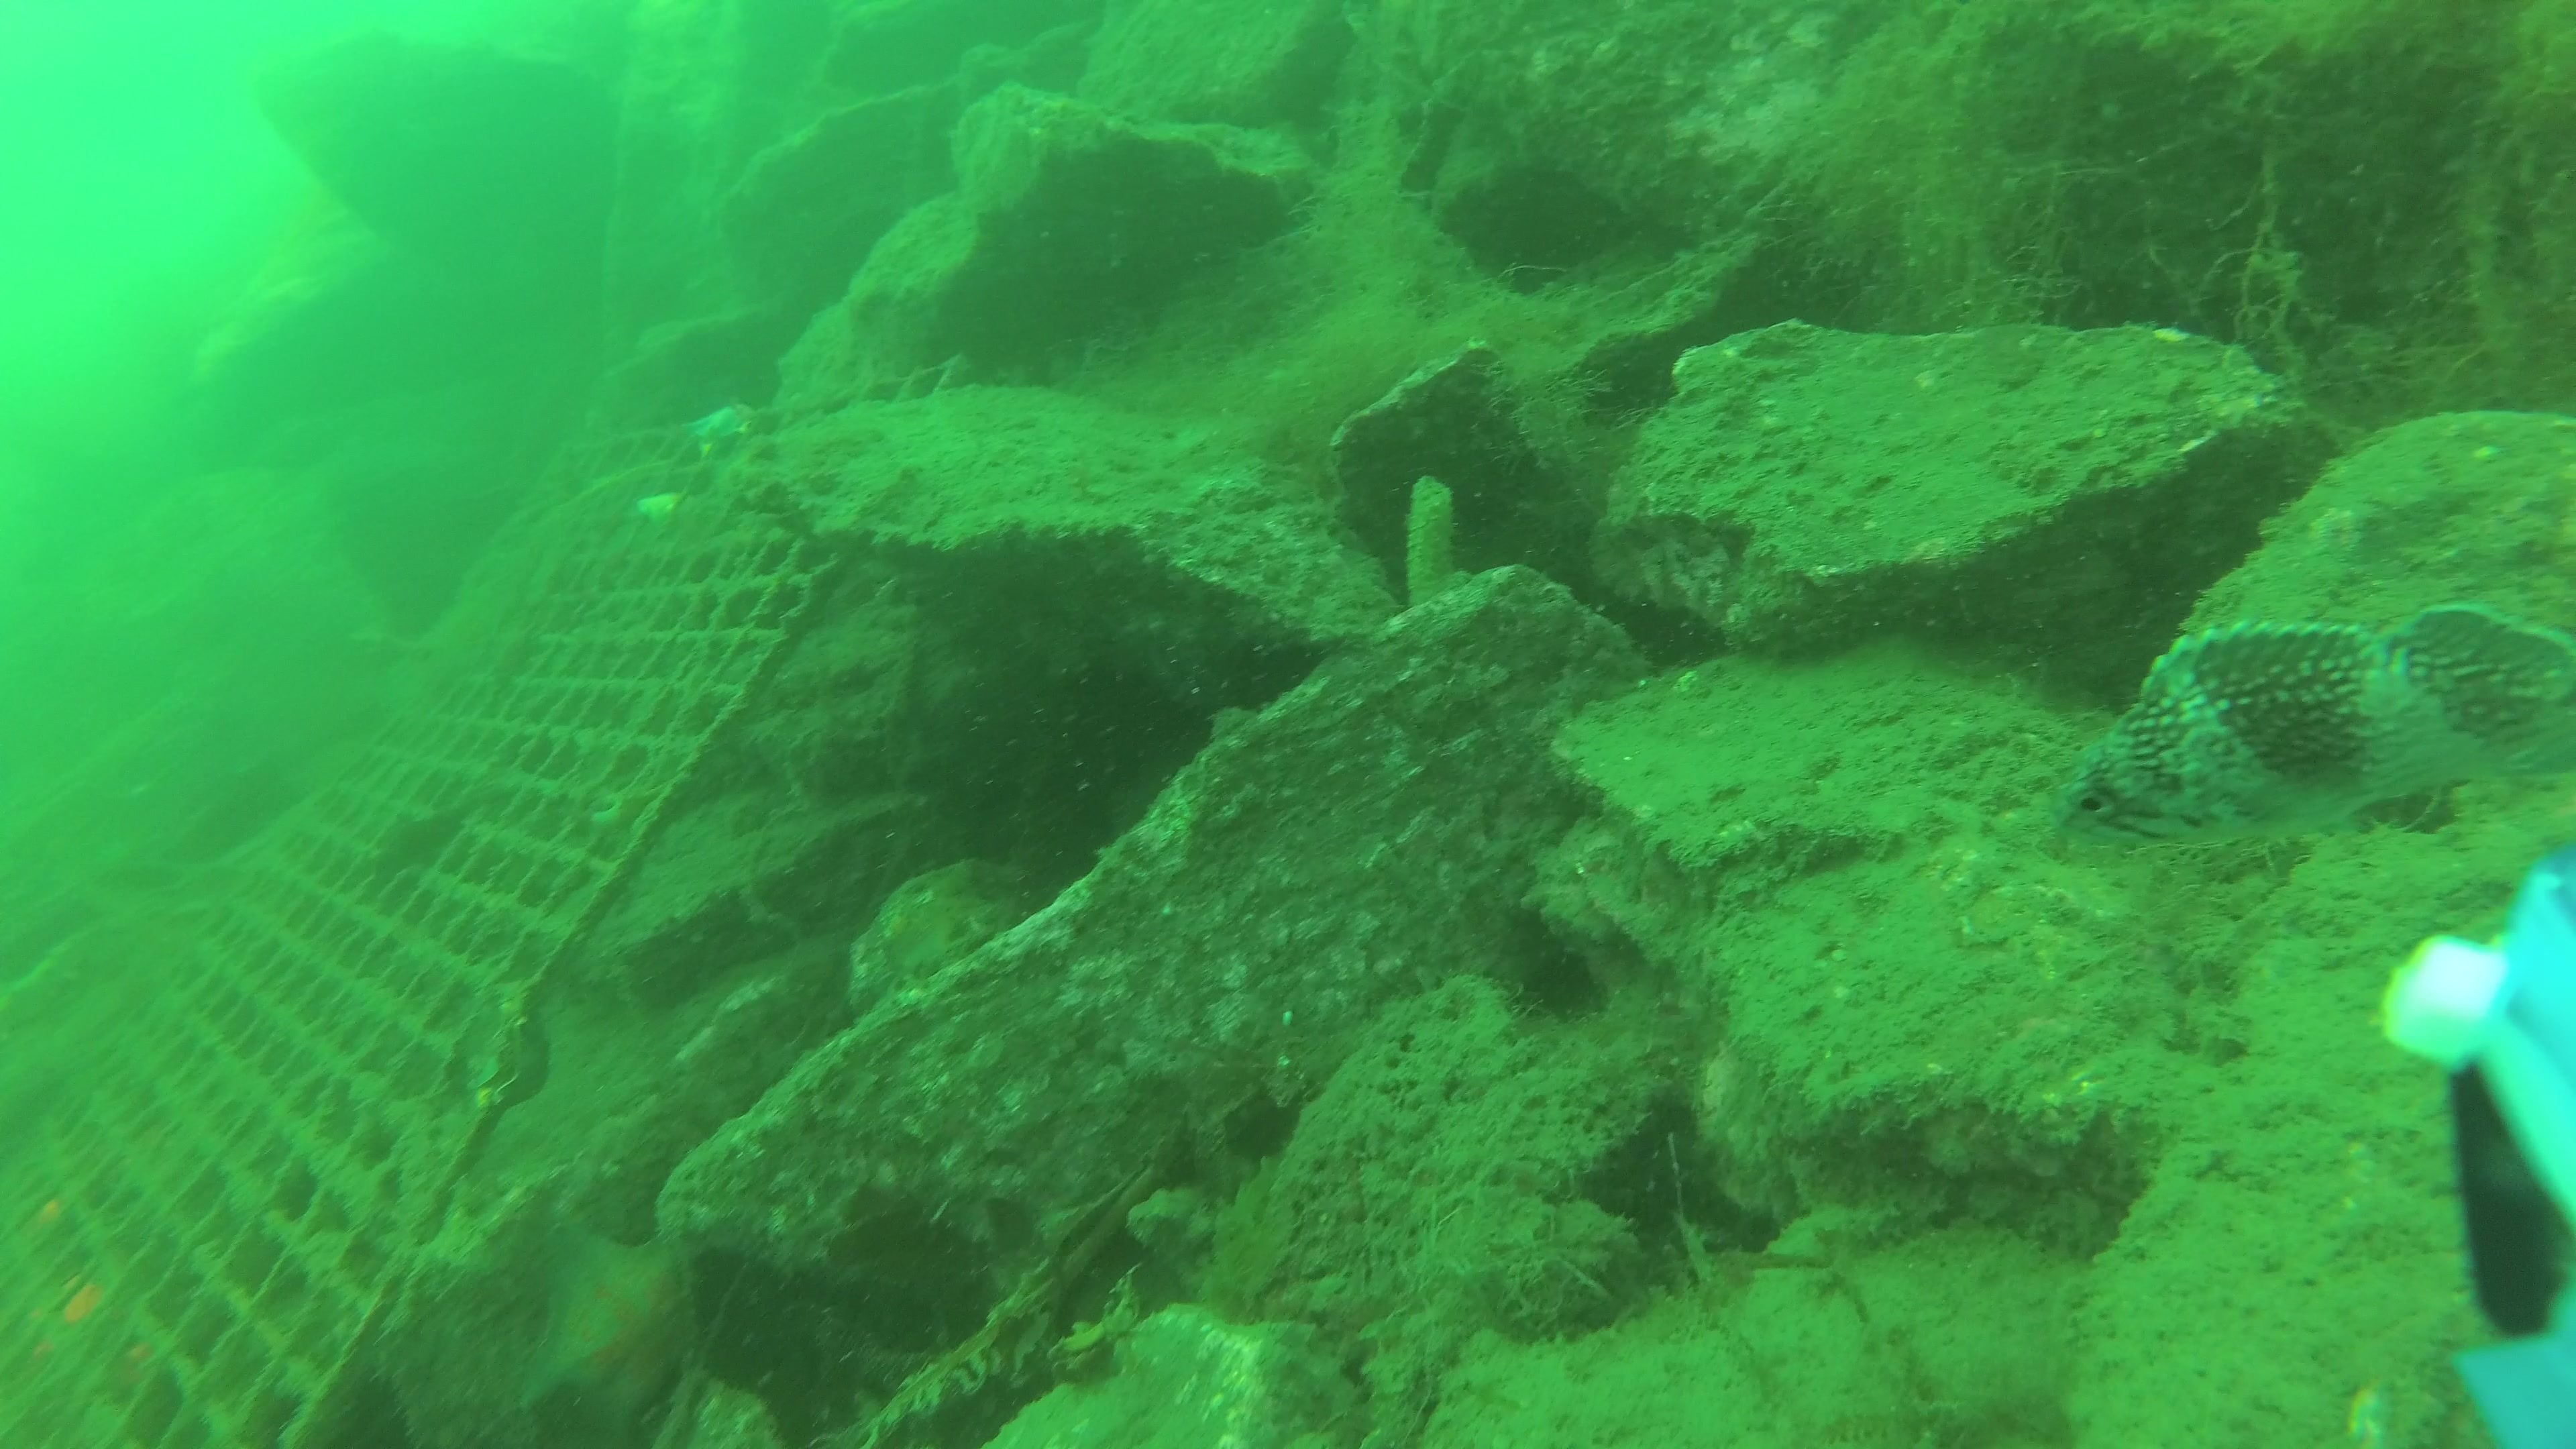echinus: (536, 1212, 699, 1414)
